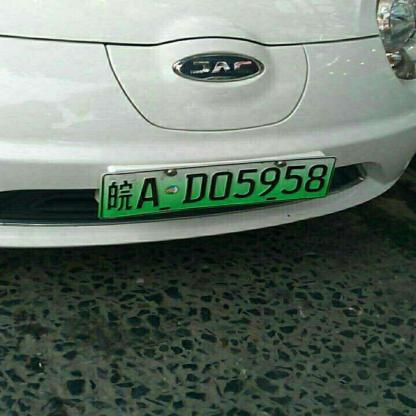lp: (104, 157, 334, 218)
